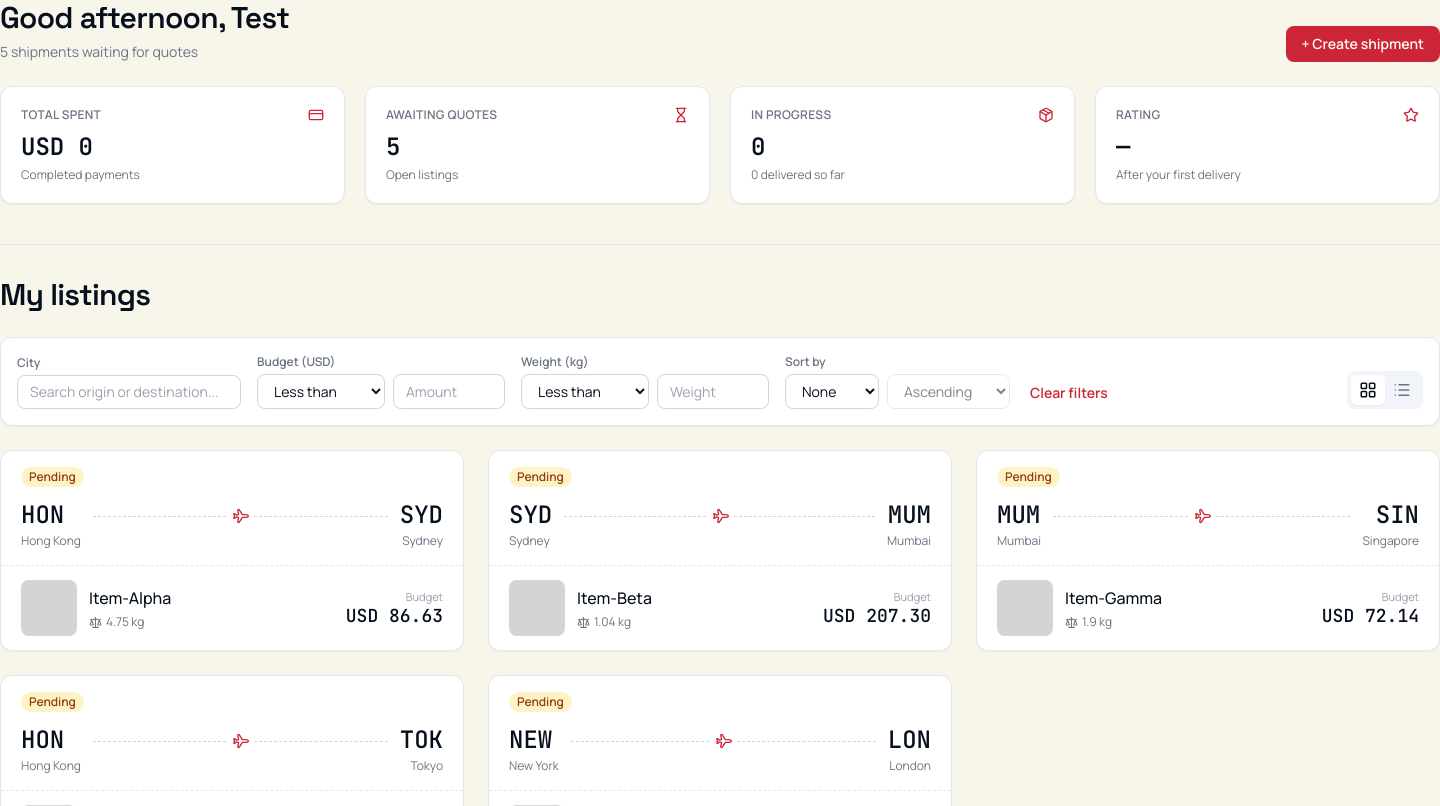
Test: shipment side panel › clicking a list row opens the details in a side panel over the listing
Expected: the text "Item-Alpha" is shown, [89, 587, 171, 609]
Click the button named "List view".
click(1402, 390)  # box [1385, 375, 1419, 405]
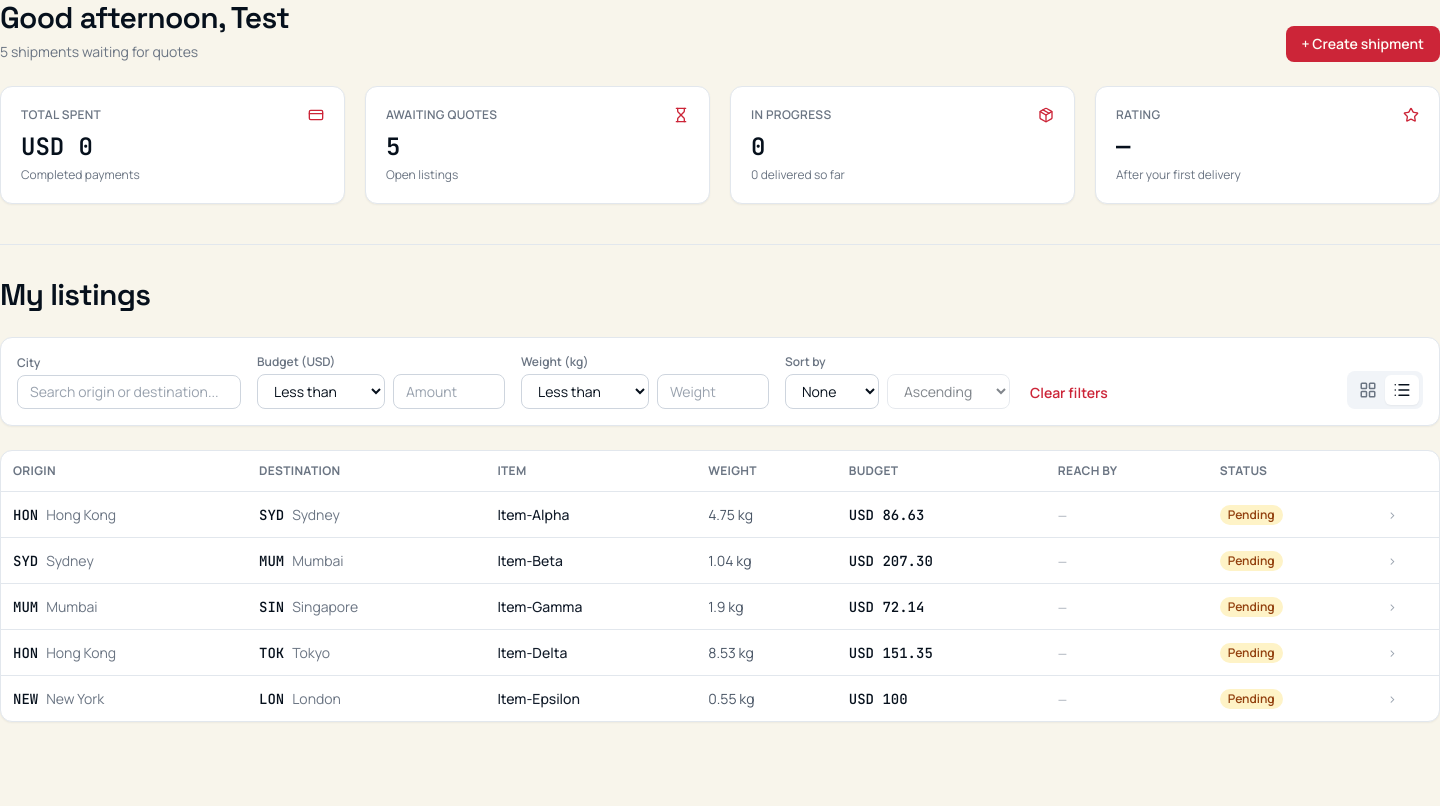
Click the row that starts with "SYD".
click(720, 560)  # box [1, 538, 1439, 584]
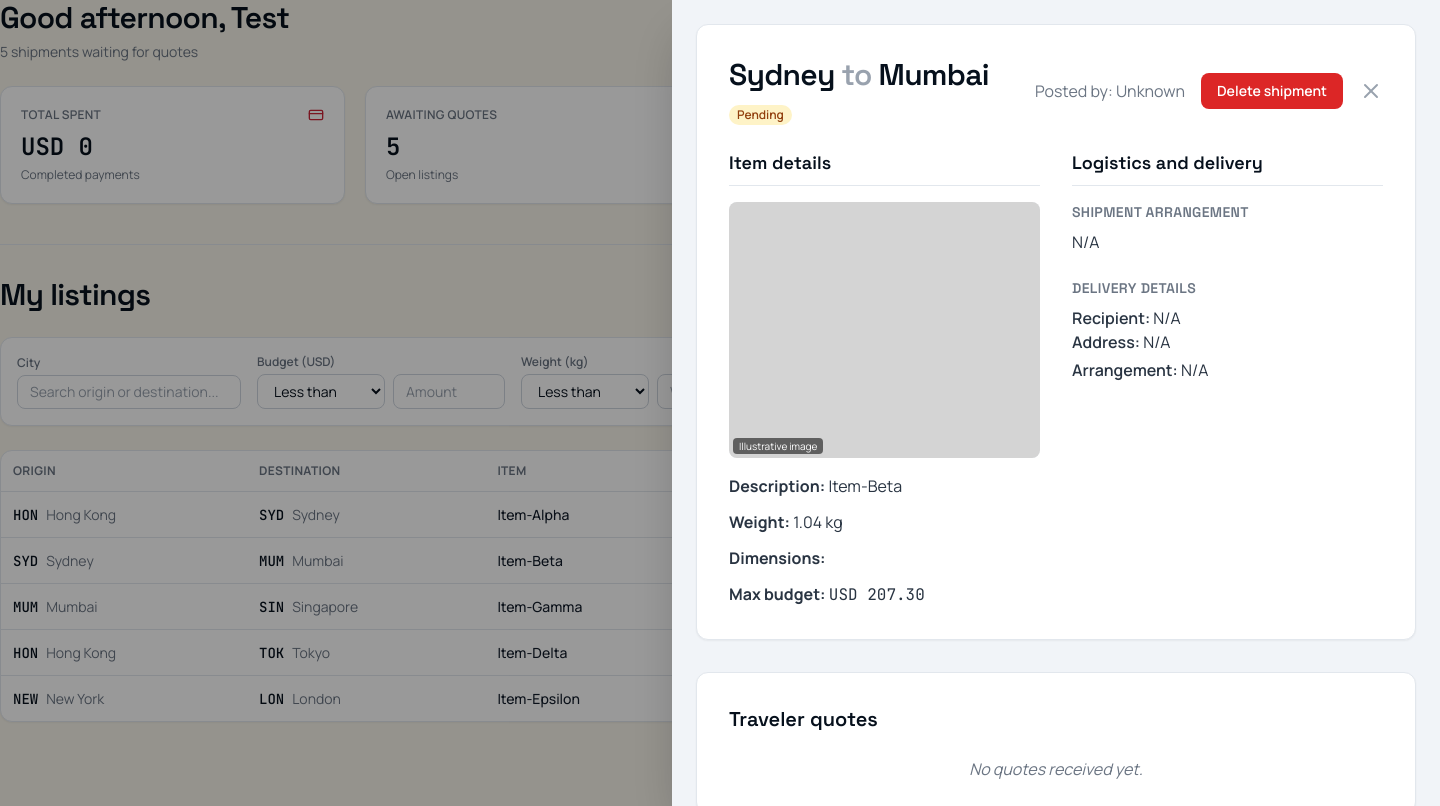
Expected: the text "Item-Alpha" is shown, [485, 492, 696, 538]
Expected: the heading "Item details" is shown, [729, 149, 1040, 186]
Expected: the text "Item-Beta" is shown, [828, 475, 902, 497]
